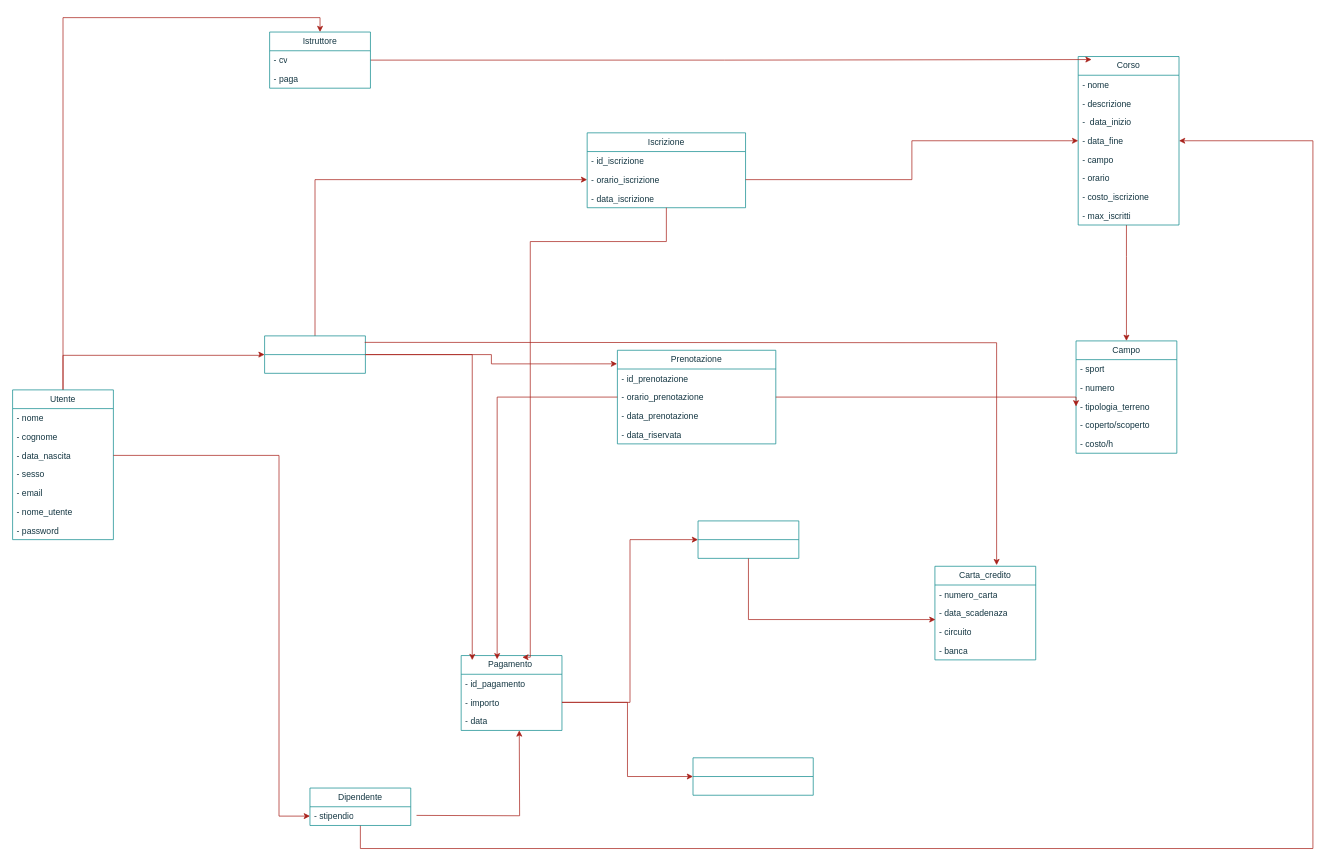
The diagram is 1331 pixels wide and 867 high, and some of its shapes have lost their labels. The centre of each missing label's shape, as x and y in pixels:
"Cliente" goes at pixel 314 354.
"Pagamento online" goes at pixel 748 539.
"Pagamento_in_struttura" goes at pixel 752 776.
